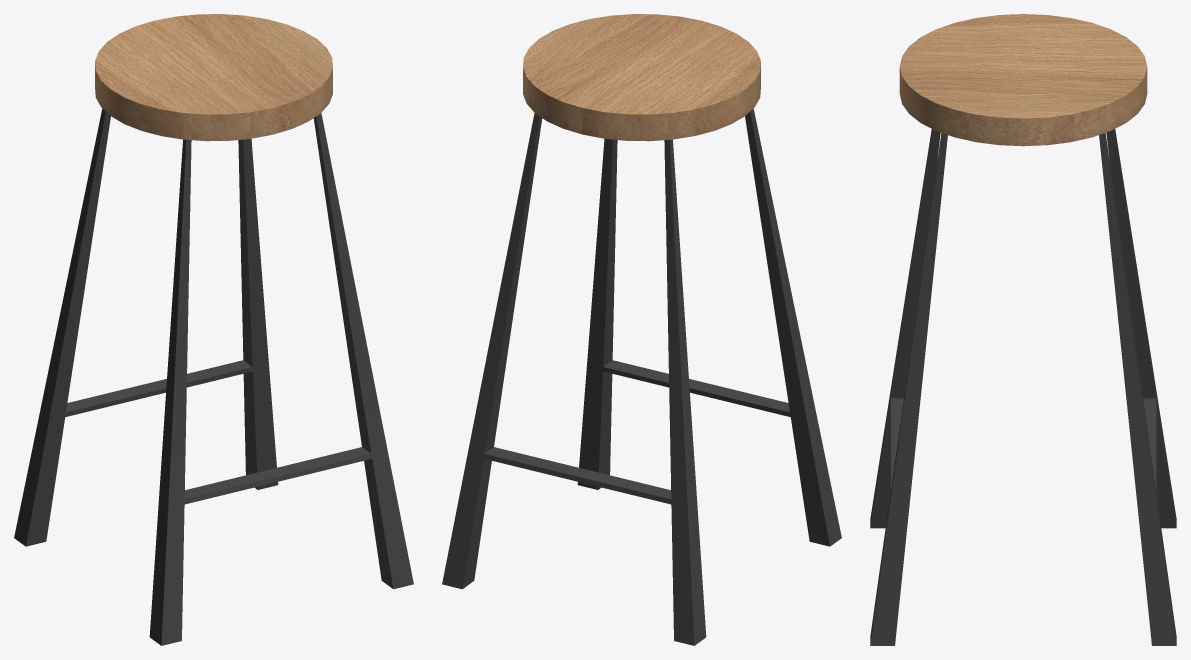
File: tool.fbx
3 views of the same model, side by side, from view 1: azimuth 30°, elevation 25°; view 2: azimuth 150°, elevation 25°; view 3: azimuth 270°, elevation 25° (orthographic). The views are drawn at different scales.
Parts seen in each view (by area): view 1: Cylinder; view 2: Cylinder; view 3: Cylinder.
Boxes of the visible parts, x1=… form: Cylinder: x1=14, y1=14, x2=413, y2=645; Cylinder: x1=442, y1=14, x2=841, y2=645; Cylinder: x1=870, y1=14, x2=1176, y2=645.
Bounding box in the file's own units: 59.2 × 111 × 59.88.
